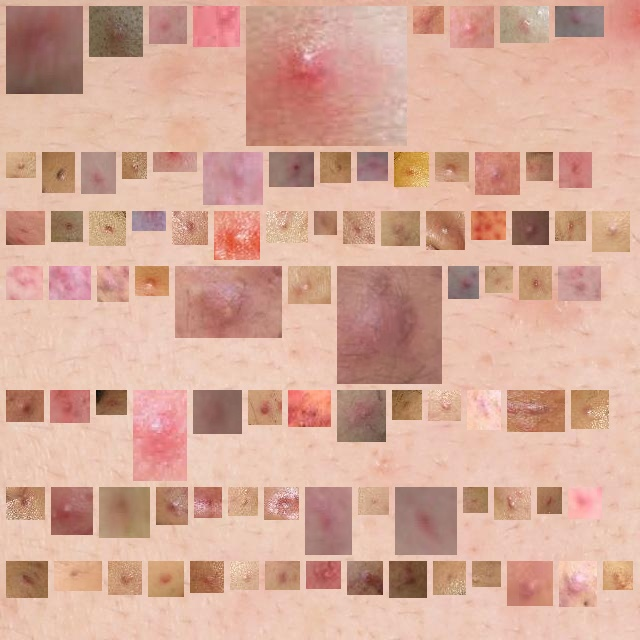papule: (254, 14, 399, 138), (345, 274, 438, 376), (183, 274, 274, 330), (14, 14, 75, 86), (141, 398, 179, 473), (403, 495, 449, 547), (211, 160, 255, 197), (313, 495, 344, 547), (97, 14, 135, 49), (107, 495, 142, 530), (345, 398, 378, 434), (515, 398, 557, 424), (222, 219, 252, 252), (201, 398, 234, 426), (515, 569, 545, 598), (59, 495, 85, 527), (483, 160, 512, 187), (201, 14, 232, 39), (458, 14, 486, 40), (508, 14, 541, 35), (567, 569, 589, 599), (296, 274, 323, 296), (277, 160, 308, 179), (296, 398, 323, 419), (600, 219, 622, 244), (14, 569, 40, 590), (434, 219, 457, 242), (566, 274, 593, 293), (579, 398, 601, 421), (563, 14, 596, 29), (89, 160, 108, 186), (157, 14, 179, 36), (57, 274, 83, 292), (397, 569, 419, 590), (62, 569, 94, 583), (389, 219, 412, 238), (475, 398, 493, 422), (50, 160, 67, 185), (274, 219, 300, 235), (14, 219, 37, 237), (58, 398, 82, 415), (156, 569, 176, 589), (97, 219, 118, 238), (14, 495, 37, 512), (520, 219, 541, 237), (14, 274, 35, 292), (402, 160, 421, 179), (180, 219, 200, 237), (355, 569, 375, 587), (502, 495, 523, 512), (14, 398, 36, 414), (164, 495, 180, 517), (256, 398, 274, 417), (567, 160, 584, 180), (116, 569, 134, 587), (272, 495, 291, 512), (105, 274, 121, 294), (527, 274, 544, 292), (441, 569, 458, 587), (365, 160, 380, 180), (576, 495, 594, 511), (198, 569, 216, 585), (351, 219, 367, 236), (456, 274, 471, 291), (436, 398, 453, 413), (443, 160, 461, 174), (143, 274, 161, 288), (479, 219, 498, 232), (273, 569, 292, 582), (59, 219, 75, 234), (314, 569, 333, 581), (328, 160, 343, 175), (563, 219, 578, 233), (400, 398, 414, 412), (236, 495, 250, 508), (611, 569, 625, 582), (421, 14, 436, 26), (202, 495, 214, 510), (366, 495, 381, 507), (238, 569, 251, 582), (104, 396, 119, 407), (534, 160, 545, 173), (14, 160, 28, 170), (493, 274, 505, 285), (480, 569, 493, 579), (130, 160, 139, 171), (545, 495, 554, 506), (471, 495, 480, 505), (322, 219, 329, 227)
